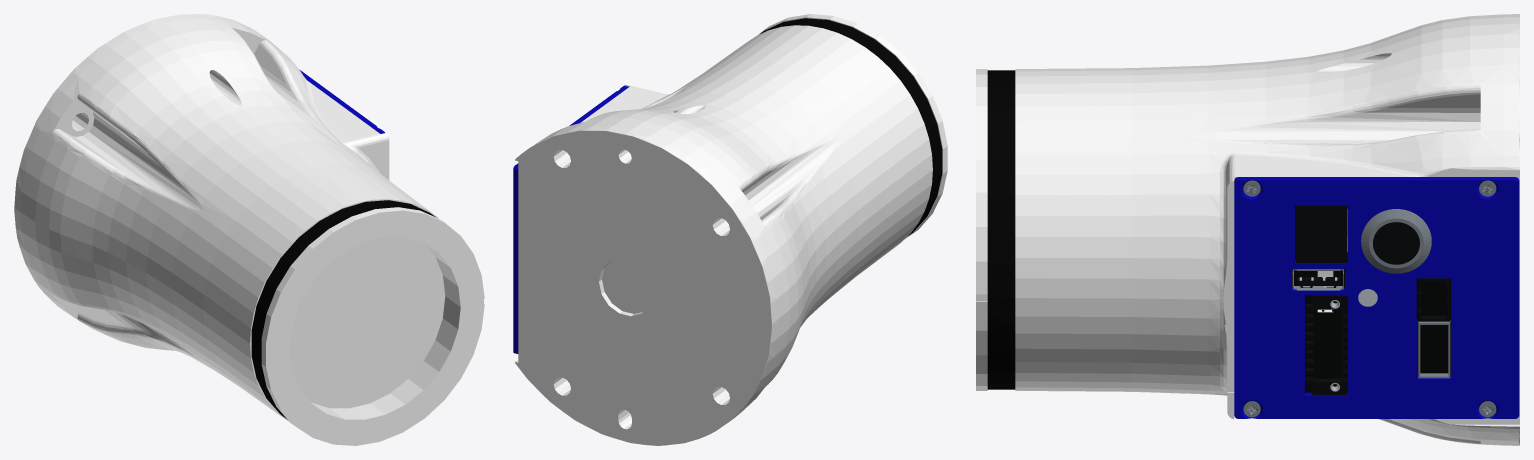
The picture shows the model from 3 angles, left to right: view 1: azimuth 30°, elevation 25°; view 2: azimuth 150°, elevation 25°; view 3: azimuth 270°, elevation 25°; orthographic projection. The views are drawn at different scales.
Parts seen in each view (by area): view 1: base_link; view 2: base_link; view 3: base_link.
Boxes of the visible parts, x1,y1,x2,y2 form: base_link: (14,14,484,445); base_link: (513,14,947,445); base_link: (976,14,1519,445).
Bounding box in the file's own units: 0.0985 × 0.11 × 0.1385.
